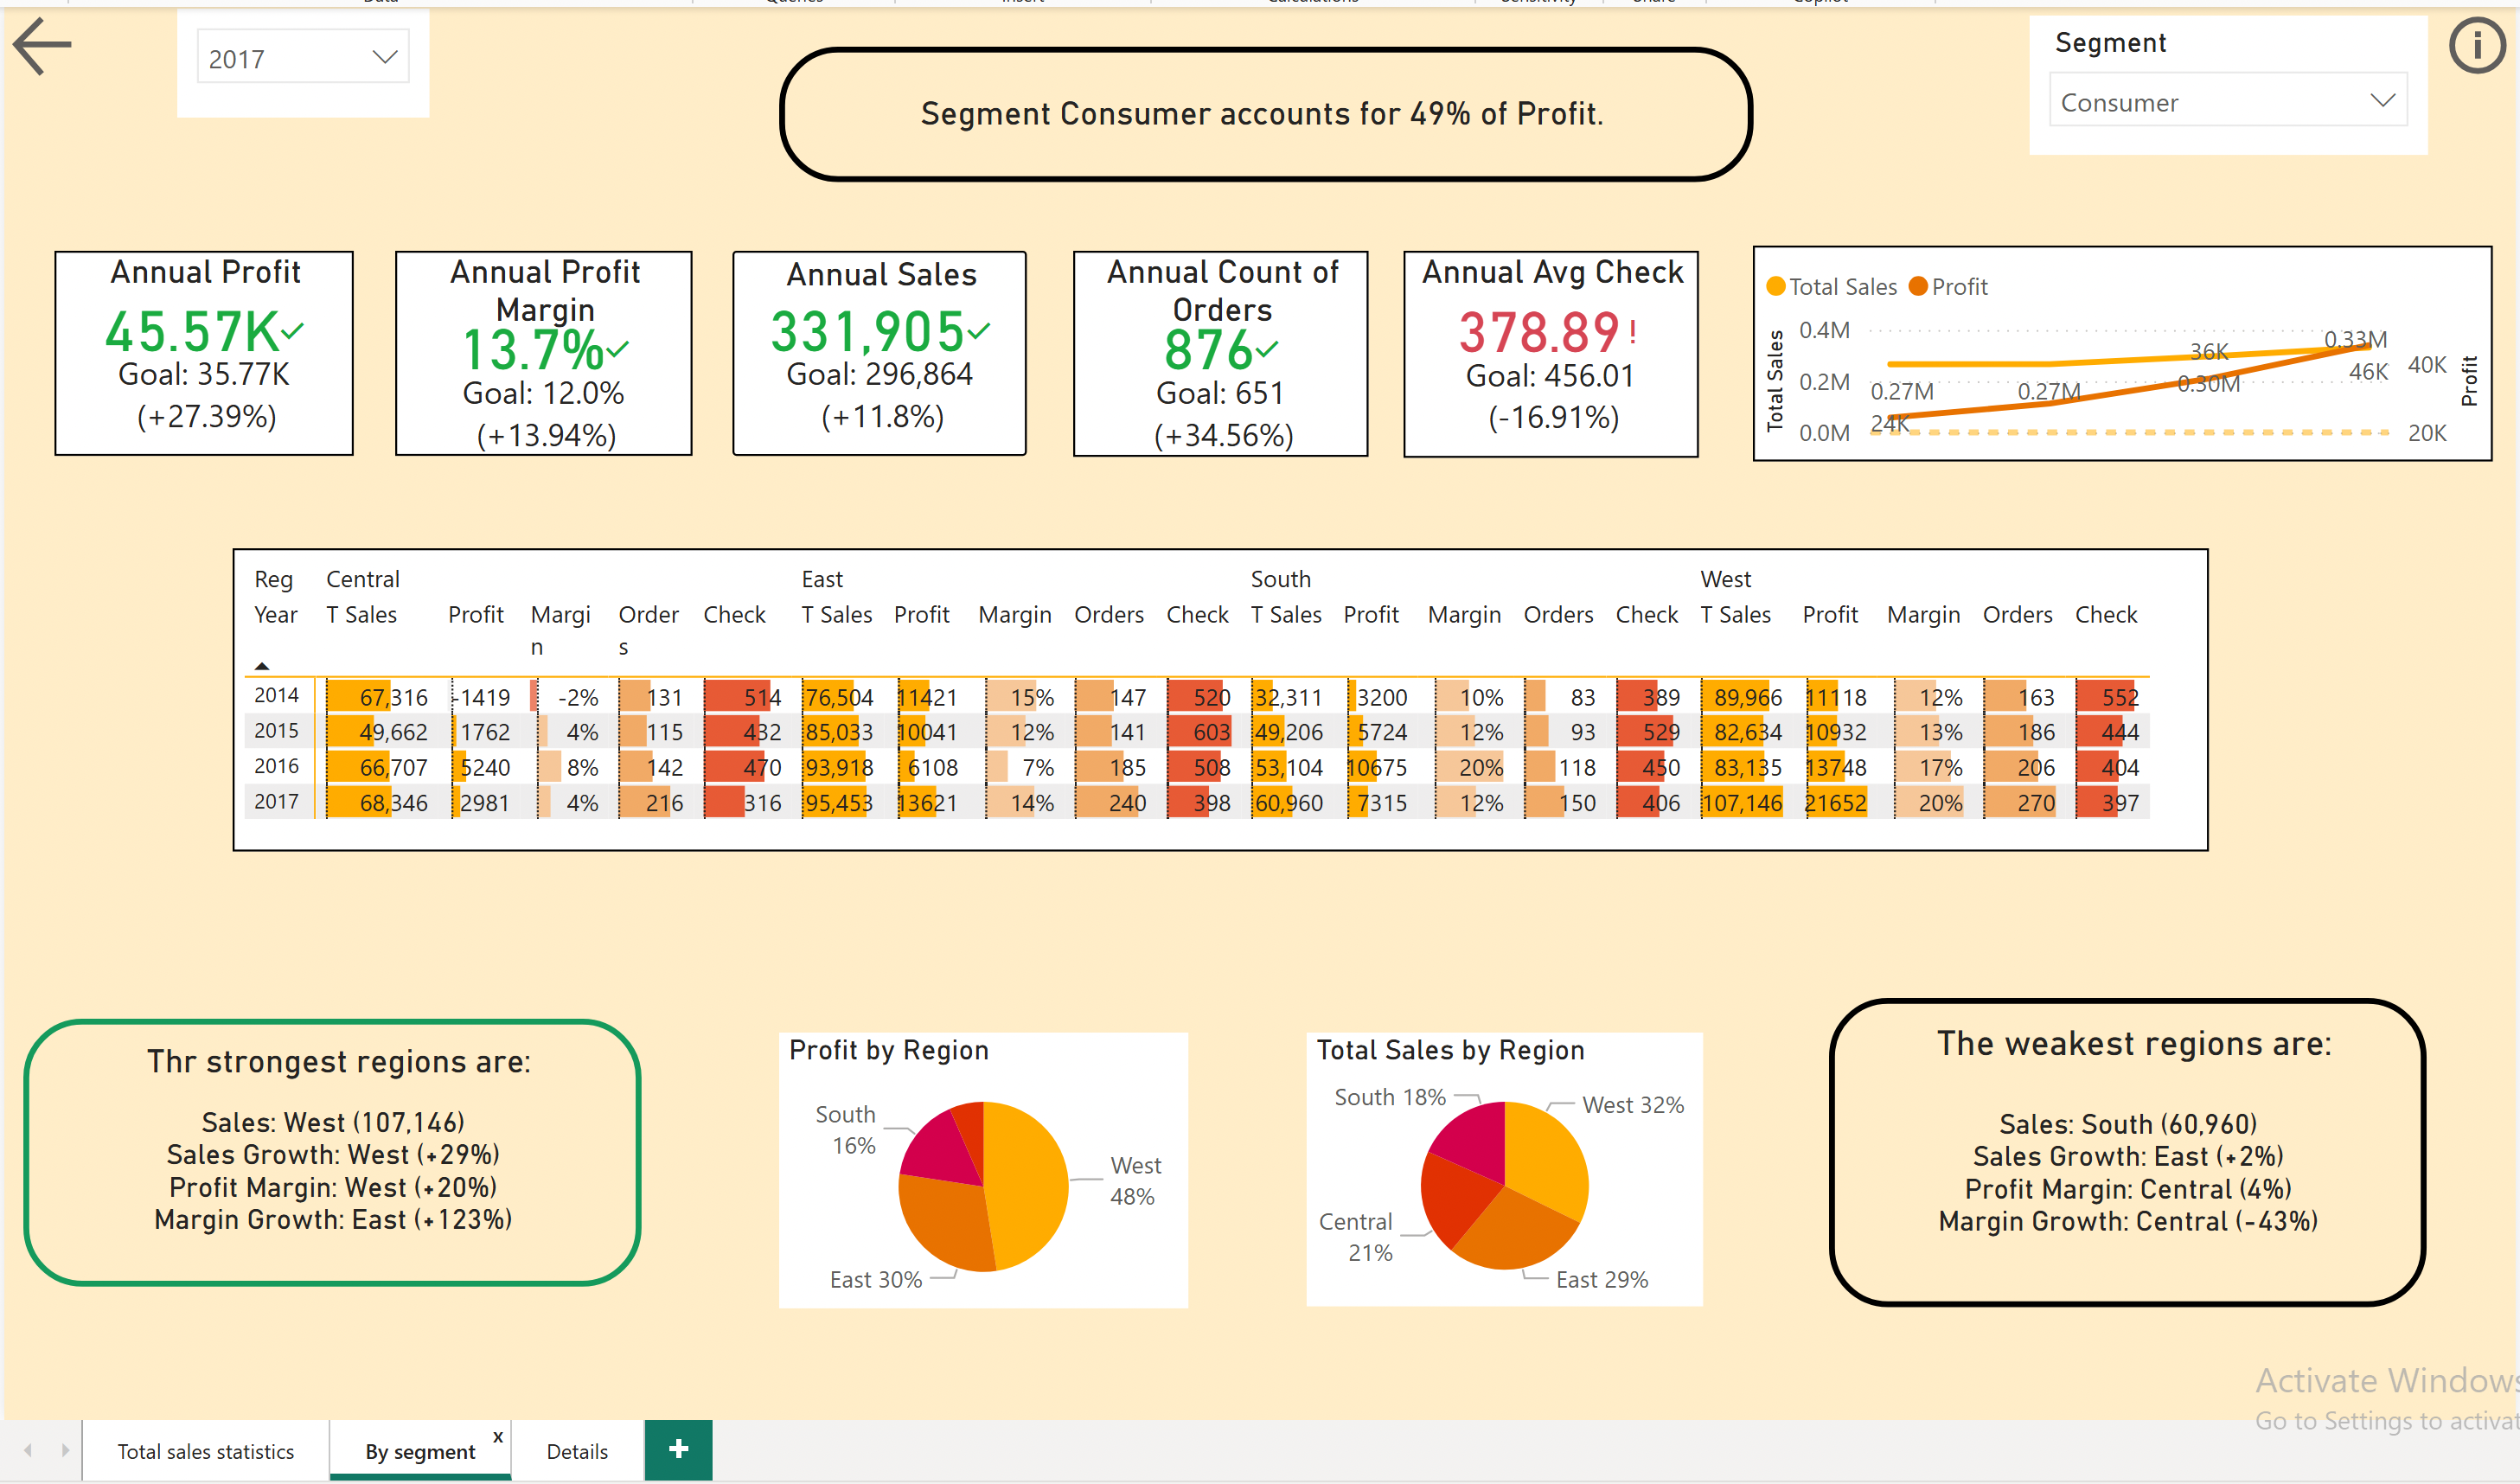

The page's visual inventory and layout, read from the dashboard file:
{"tool":"powerbi","page":{"name":"Consumer","canvas":[1280,720],"ordinal":1},"visuals":[{"type":"pageNavigator","box":[395,7.9,885,64.7],"z":0},{"type":"actionButton","box":[0,1.1,39.4,39.4],"z":1000},{"type":"pivotTable","title":"KPI","fields":{"Columns":["Sales.Region"],"Rows":["DateTable.Year"],"Values":["_Measures.Total Sales","_Measures.Profit","_Measures.Profit Margin","_Measures.Distinct Orders","_Measures.Avg Check"]},"box":[6.6,249.4,917.9,142.2],"z":2000},{"type":"pieChart","fields":{"Y":["_Measures.Total Sales"],"Category":["Sales.Region"]},"box":[648.2,87.9,202.9,140.1],"z":3000},{"type":"slicer","fields":{"Values":["DateTable.Year"]},"box":[39.4,7.7,128,54.7],"z":4000},{"type":"card","fields":{"Values":["_Measures.KEY Insight 1.2"]},"box":[13.6,546.5,399.2,156],"z":5000},{"type":"card","fields":{"Values":["_Measures.Key Insight 1.3"]},"box":[498,546.5,394.4,156],"z":6000},{"type":"card","fields":{"Values":["_Measures.Key Insight 1.1"]},"box":[13.6,400.2,875.9,137.6],"z":7000},{"type":"lineChart","fields":{"Y":["_Measures.Total Sales"],"Category":["DateTable.Year"]},"box":[930.3,98.5,349.7,110.1],"z":8000},{"type":"lineChart","title":"Profit by Year","fields":{"Y":["_Measures.Profit"],"Category":["DateTable.Year"]},"box":[928.4,229.9,349.7,110.1],"z":9000},{"type":"lineChart","fields":{"Category":["DateTable.Year"],"Y":["_Measures.Distinct Orders"]},"box":[928.4,482.1,349.7,110.1],"z":10000},{"type":"lineChart","fields":{"Category":["DateTable.Year"],"Y":["_Measures.Avg Check"]},"box":[928.4,605.7,350,110],"z":11000},{"type":"lineChart","fields":{"Category":["DateTable.Year"],"Y":["_Measures.Profit Margin"]},"box":[928.4,360.3,349.7,110.1],"z":12000},{"type":"kpi","title":"Annual Sales","fields":{"Indicator":["_Measures.Total Sales"],"Goal":["_Measures.Sales_LY"],"TrendLine":["DateTable.Year"]},"box":[55,100.8,149.2,105],"z":13000},{"type":"kpi","title":"Annual Profit","fields":{"TrendLine":["DateTable.Year"],"Indicator":["_Measures.Profit"],"Goal":["_Measures.Profit LY"]},"box":[254.6,101.1,152.6,105],"z":14000},{"type":"kpi","title":"Annual Profit Margin","fields":{"TrendLine":["DateTable.Year"],"Indicator":["_Measures.Profit Margin"],"Goal":["_Measures.Margin LY"]},"box":[462,100.4,150.2,105.1],"z":15000}]}

Visuals, with their boxes on the page's 1280x720 design canvas (x1, y1, x2, y2). These are canvas units, not pixel positions in the 2520x1484 screenshot, which may show the page scaled, cropped or inside an application window:
pageNavigator: bbox=[395, 8, 1280, 73]
actionButton: bbox=[0, 1, 39, 40]
"KPI" pivotTable: bbox=[7, 249, 924, 392]
pieChart - _Measures.Total Sales x Sales.Region: bbox=[648, 88, 851, 228]
slicer - DateTable.Year: bbox=[39, 8, 167, 62]
card - _Measures.KEY Insight 1.2: bbox=[14, 546, 413, 702]
card - _Measures.Key Insight 1.3: bbox=[498, 546, 892, 702]
card - _Measures.Key Insight 1.1: bbox=[14, 400, 890, 538]
lineChart - _Measures.Total Sales x DateTable.Year: bbox=[930, 98, 1280, 209]
"Profit by Year" lineChart: bbox=[928, 230, 1278, 340]
lineChart - DateTable.Year x _Measures.Distinct Orders: bbox=[928, 482, 1278, 592]
lineChart - DateTable.Year x _Measures.Avg Check: bbox=[928, 606, 1278, 716]
lineChart - DateTable.Year x _Measures.Profit Margin: bbox=[928, 360, 1278, 470]
"Annual Sales" kpi: bbox=[55, 101, 204, 206]
"Annual Profit" kpi: bbox=[255, 101, 407, 206]
"Annual Profit Margin" kpi: bbox=[462, 100, 612, 206]
